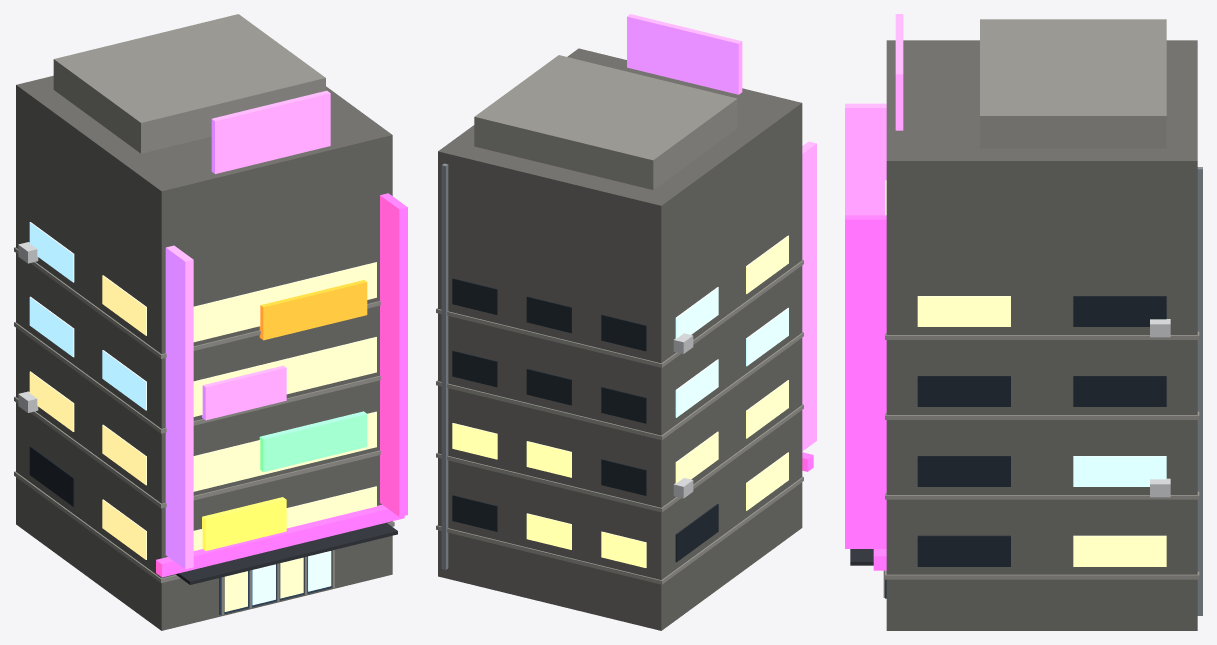
File: neonhus_2.glb
The picture shows the model from 3 angles, left to right: view 1: azimuth 30°, elevation 25°; view 2: azimuth 150°, elevation 25°; view 3: azimuth 270°, elevation 25°; orthographic projection. The views are drawn at different scales.
Parts seen in each view (by area): view 1: neonhus_2; view 2: neonhus_2; view 3: neonhus_2.
Part boxes in pixels (left/top/right/bottom): neonhus_2: left=14, top=14, right=407, bottom=630; neonhus_2: left=436, top=14, right=816, bottom=630; neonhus_2: left=845, top=14, right=1202, bottom=630.
Size of the model in its own units: 12 by 22.4 by 13.8.
